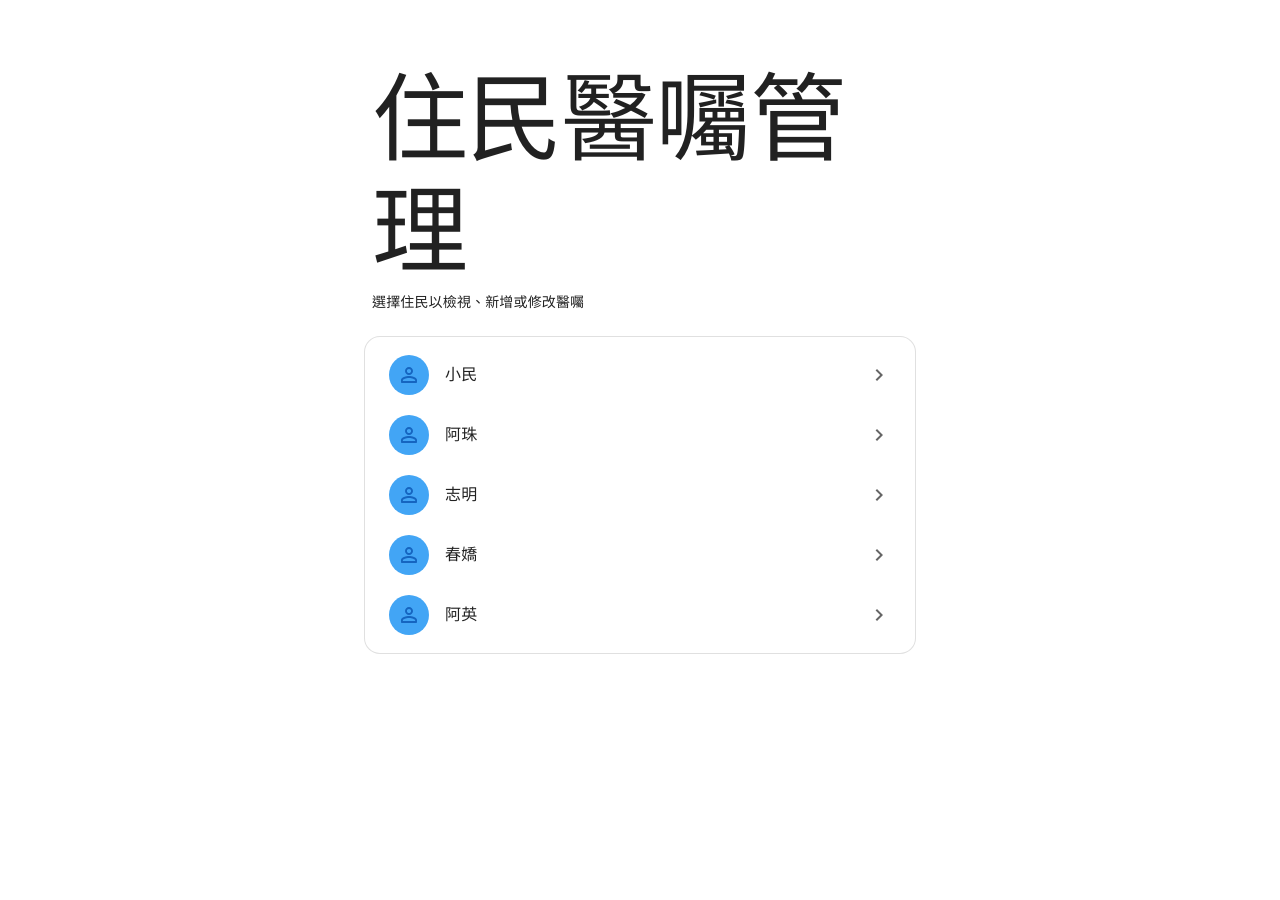
Test: App › 點擊住民後開啟該住民的 Dialog
Click the button "阿珠" at {"x": 409, "y": 435}, box [373, 405, 907, 465]
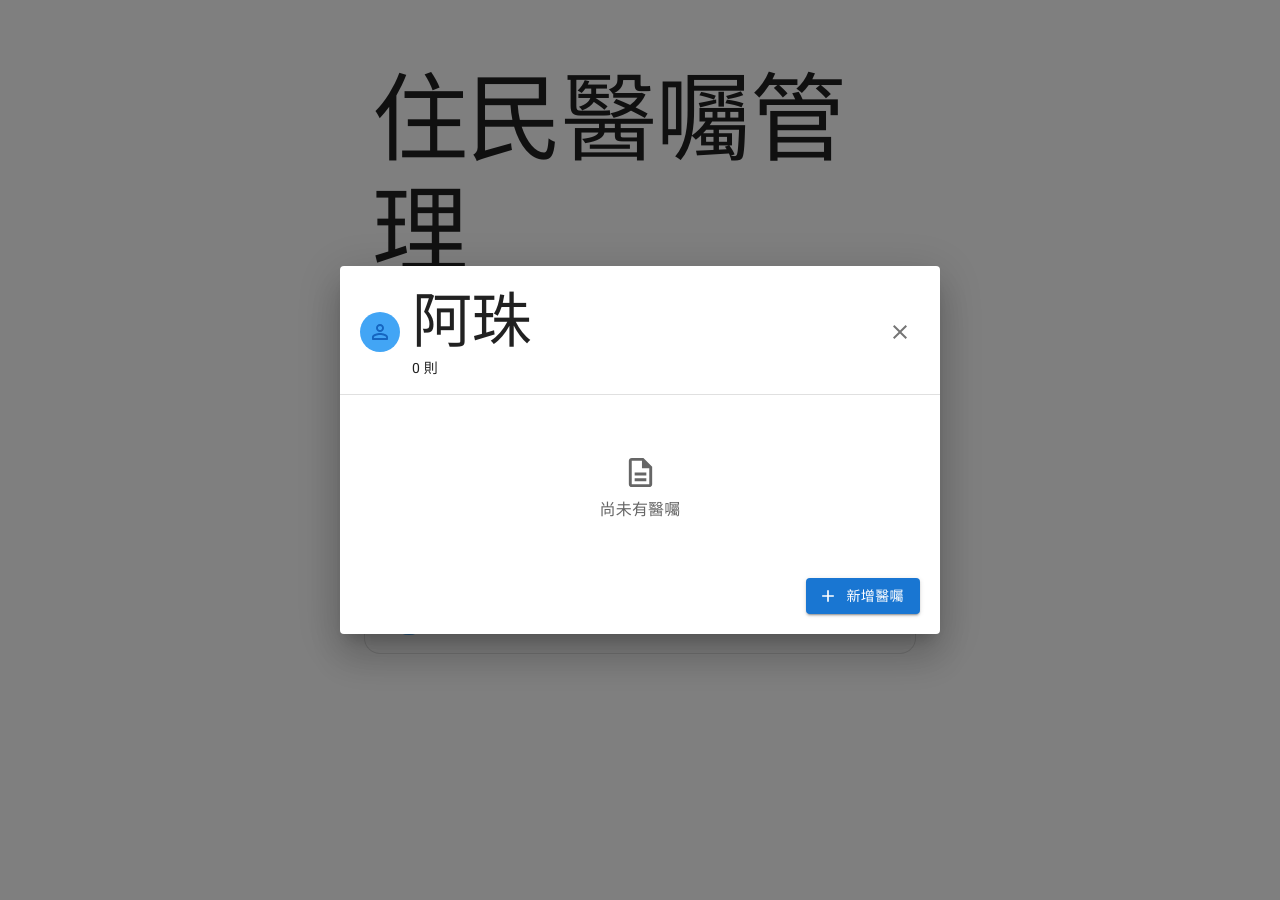
expect the heading "阿珠" is shown: met, box [412, 286, 531, 357]
